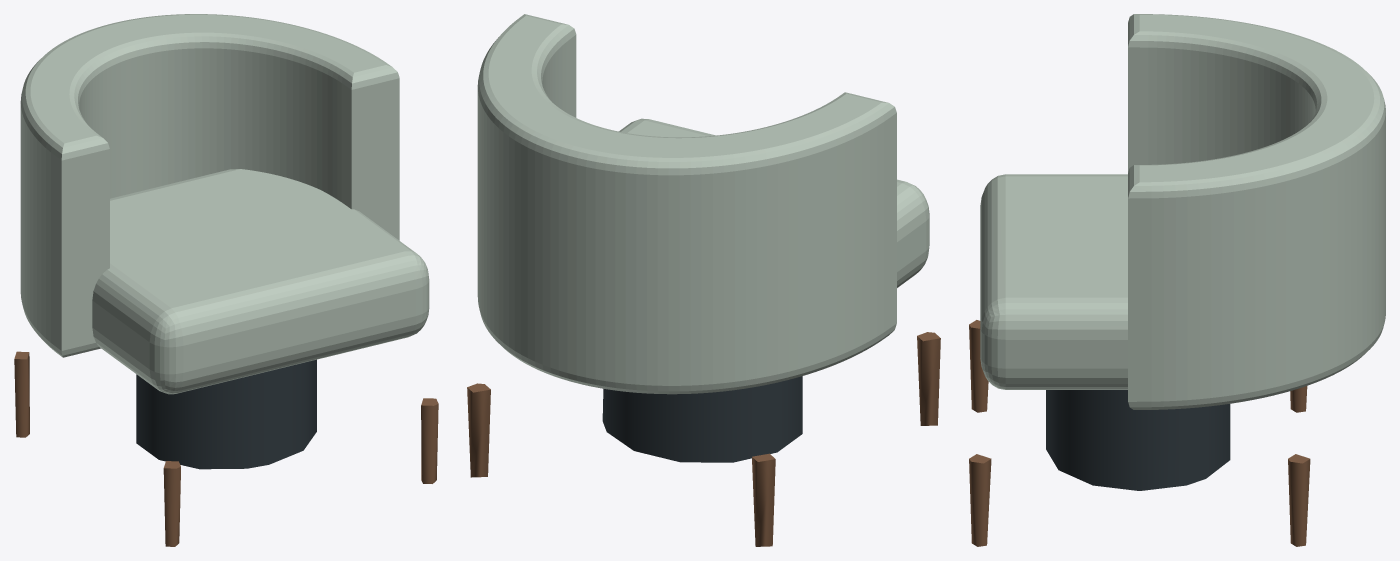
File: chair-1-4.lod.glb
The picture shows the model from 3 angles, left to right: view 1: azimuth 30°, elevation 25°; view 2: azimuth 150°, elevation 25°; view 3: azimuth 270°, elevation 25°; orthographic projection. The views are drawn at different scales.
Parts seen in each view (by area): view 1: tailored-cushion, part (×2); view 2: tailored-cushion, part (×2); view 3: tailored-cushion, part (×2).
Part boxes in pixels (x1,y1,x2,y2): tailored-cushion: (20, 14, 429, 394); part (×2): (14, 351, 438, 546); tailored-cushion: (477, 14, 929, 394); part (×2): (467, 332, 940, 546); tailored-cushion: (980, 14, 1385, 409); part (×2): (969, 320, 1310, 546).
Bounding box in the file's own units: 1 × 1 × 1.
